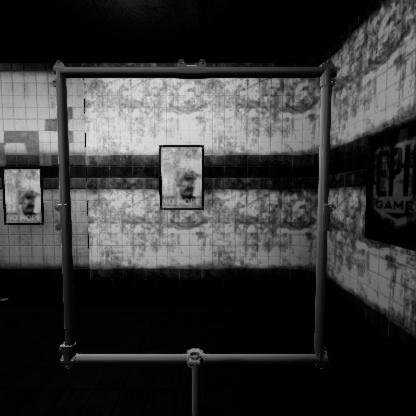gate: (55, 47, 362, 352)
